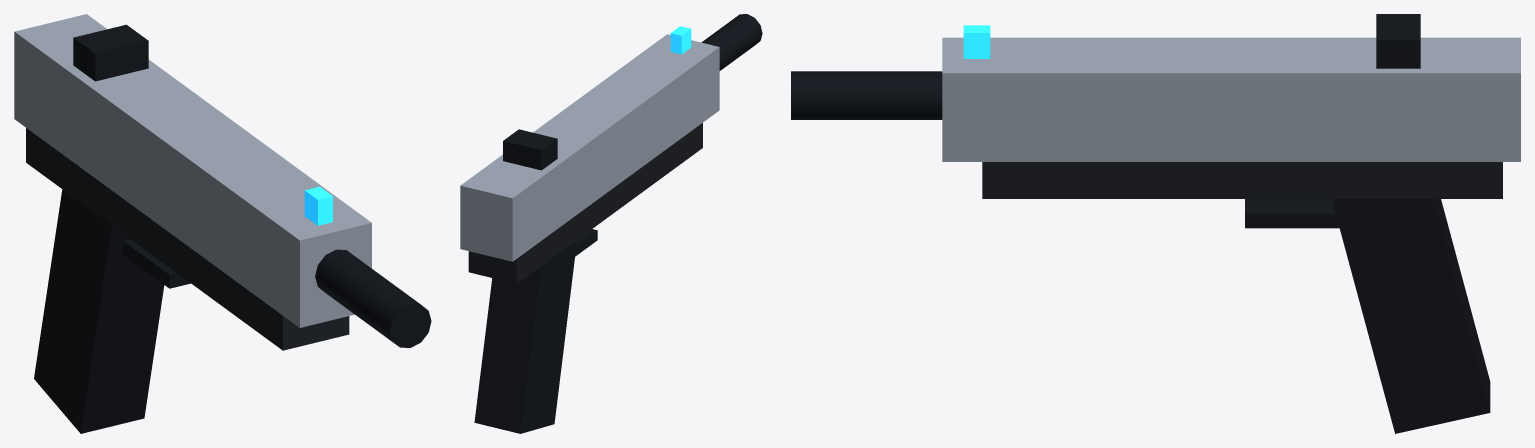
File: deagle.glb
3 views of the same model, side by side, from view 1: azimuth 30°, elevation 25°; view 2: azimuth 150°, elevation 25°; view 3: azimuth 270°, elevation 25° (orthographic). The views are drawn at different scales.
Visible parts, largest first — view 1: Weapon_deagle; view 2: Weapon_deagle; view 3: Weapon_deagle.
Part boxes in pixels (left/top/right/bottom): Weapon_deagle: left=14, top=14, right=431, bottom=433; Weapon_deagle: left=460, top=14, right=762, bottom=433; Weapon_deagle: left=791, top=14, right=1520, bottom=433.
Size of the model in its own units: 0.038 by 0.1939 by 0.328.
